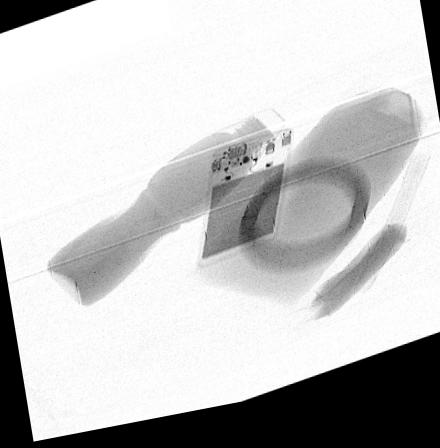Powerbank: (196, 137, 293, 271)
